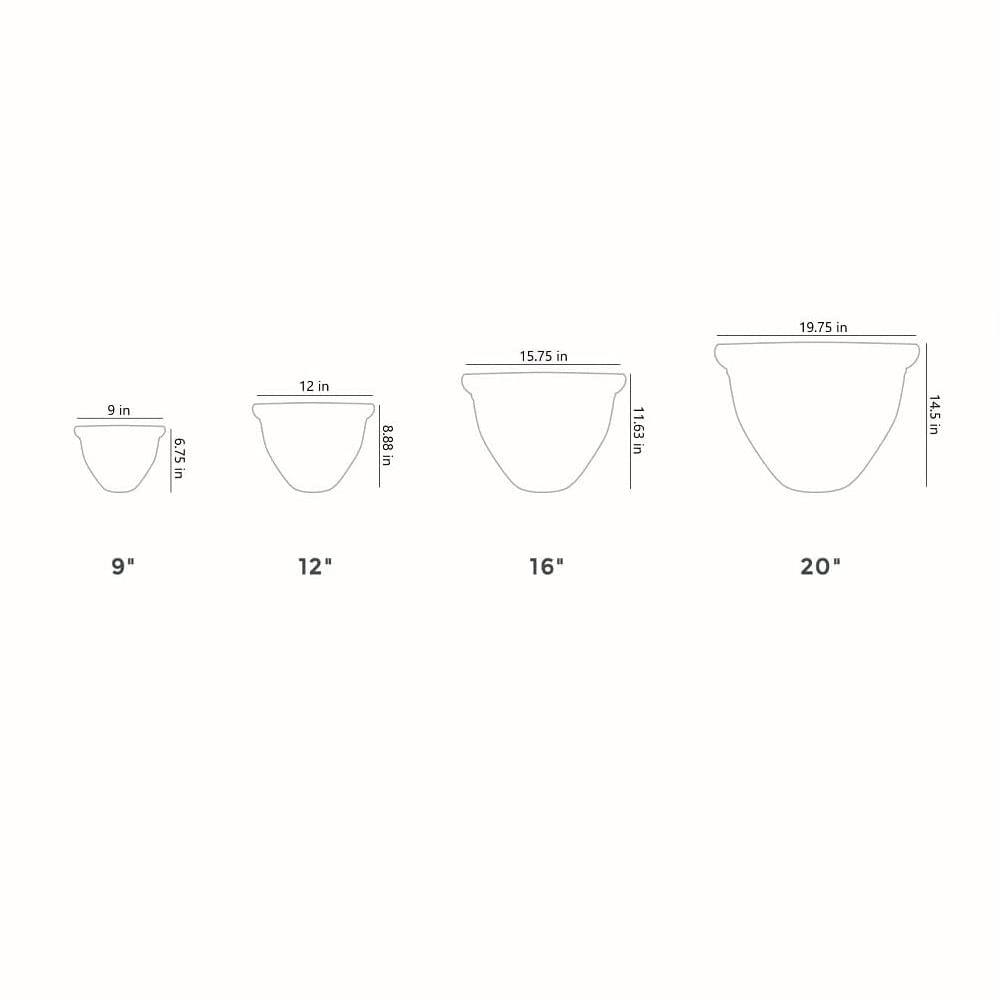11.63: (633, 407, 644, 438)
12: (299, 558, 331, 575)
15.75: (521, 351, 552, 362)
9: (112, 558, 134, 575)
in: (634, 444, 644, 454)
in.: (557, 354, 567, 361)
